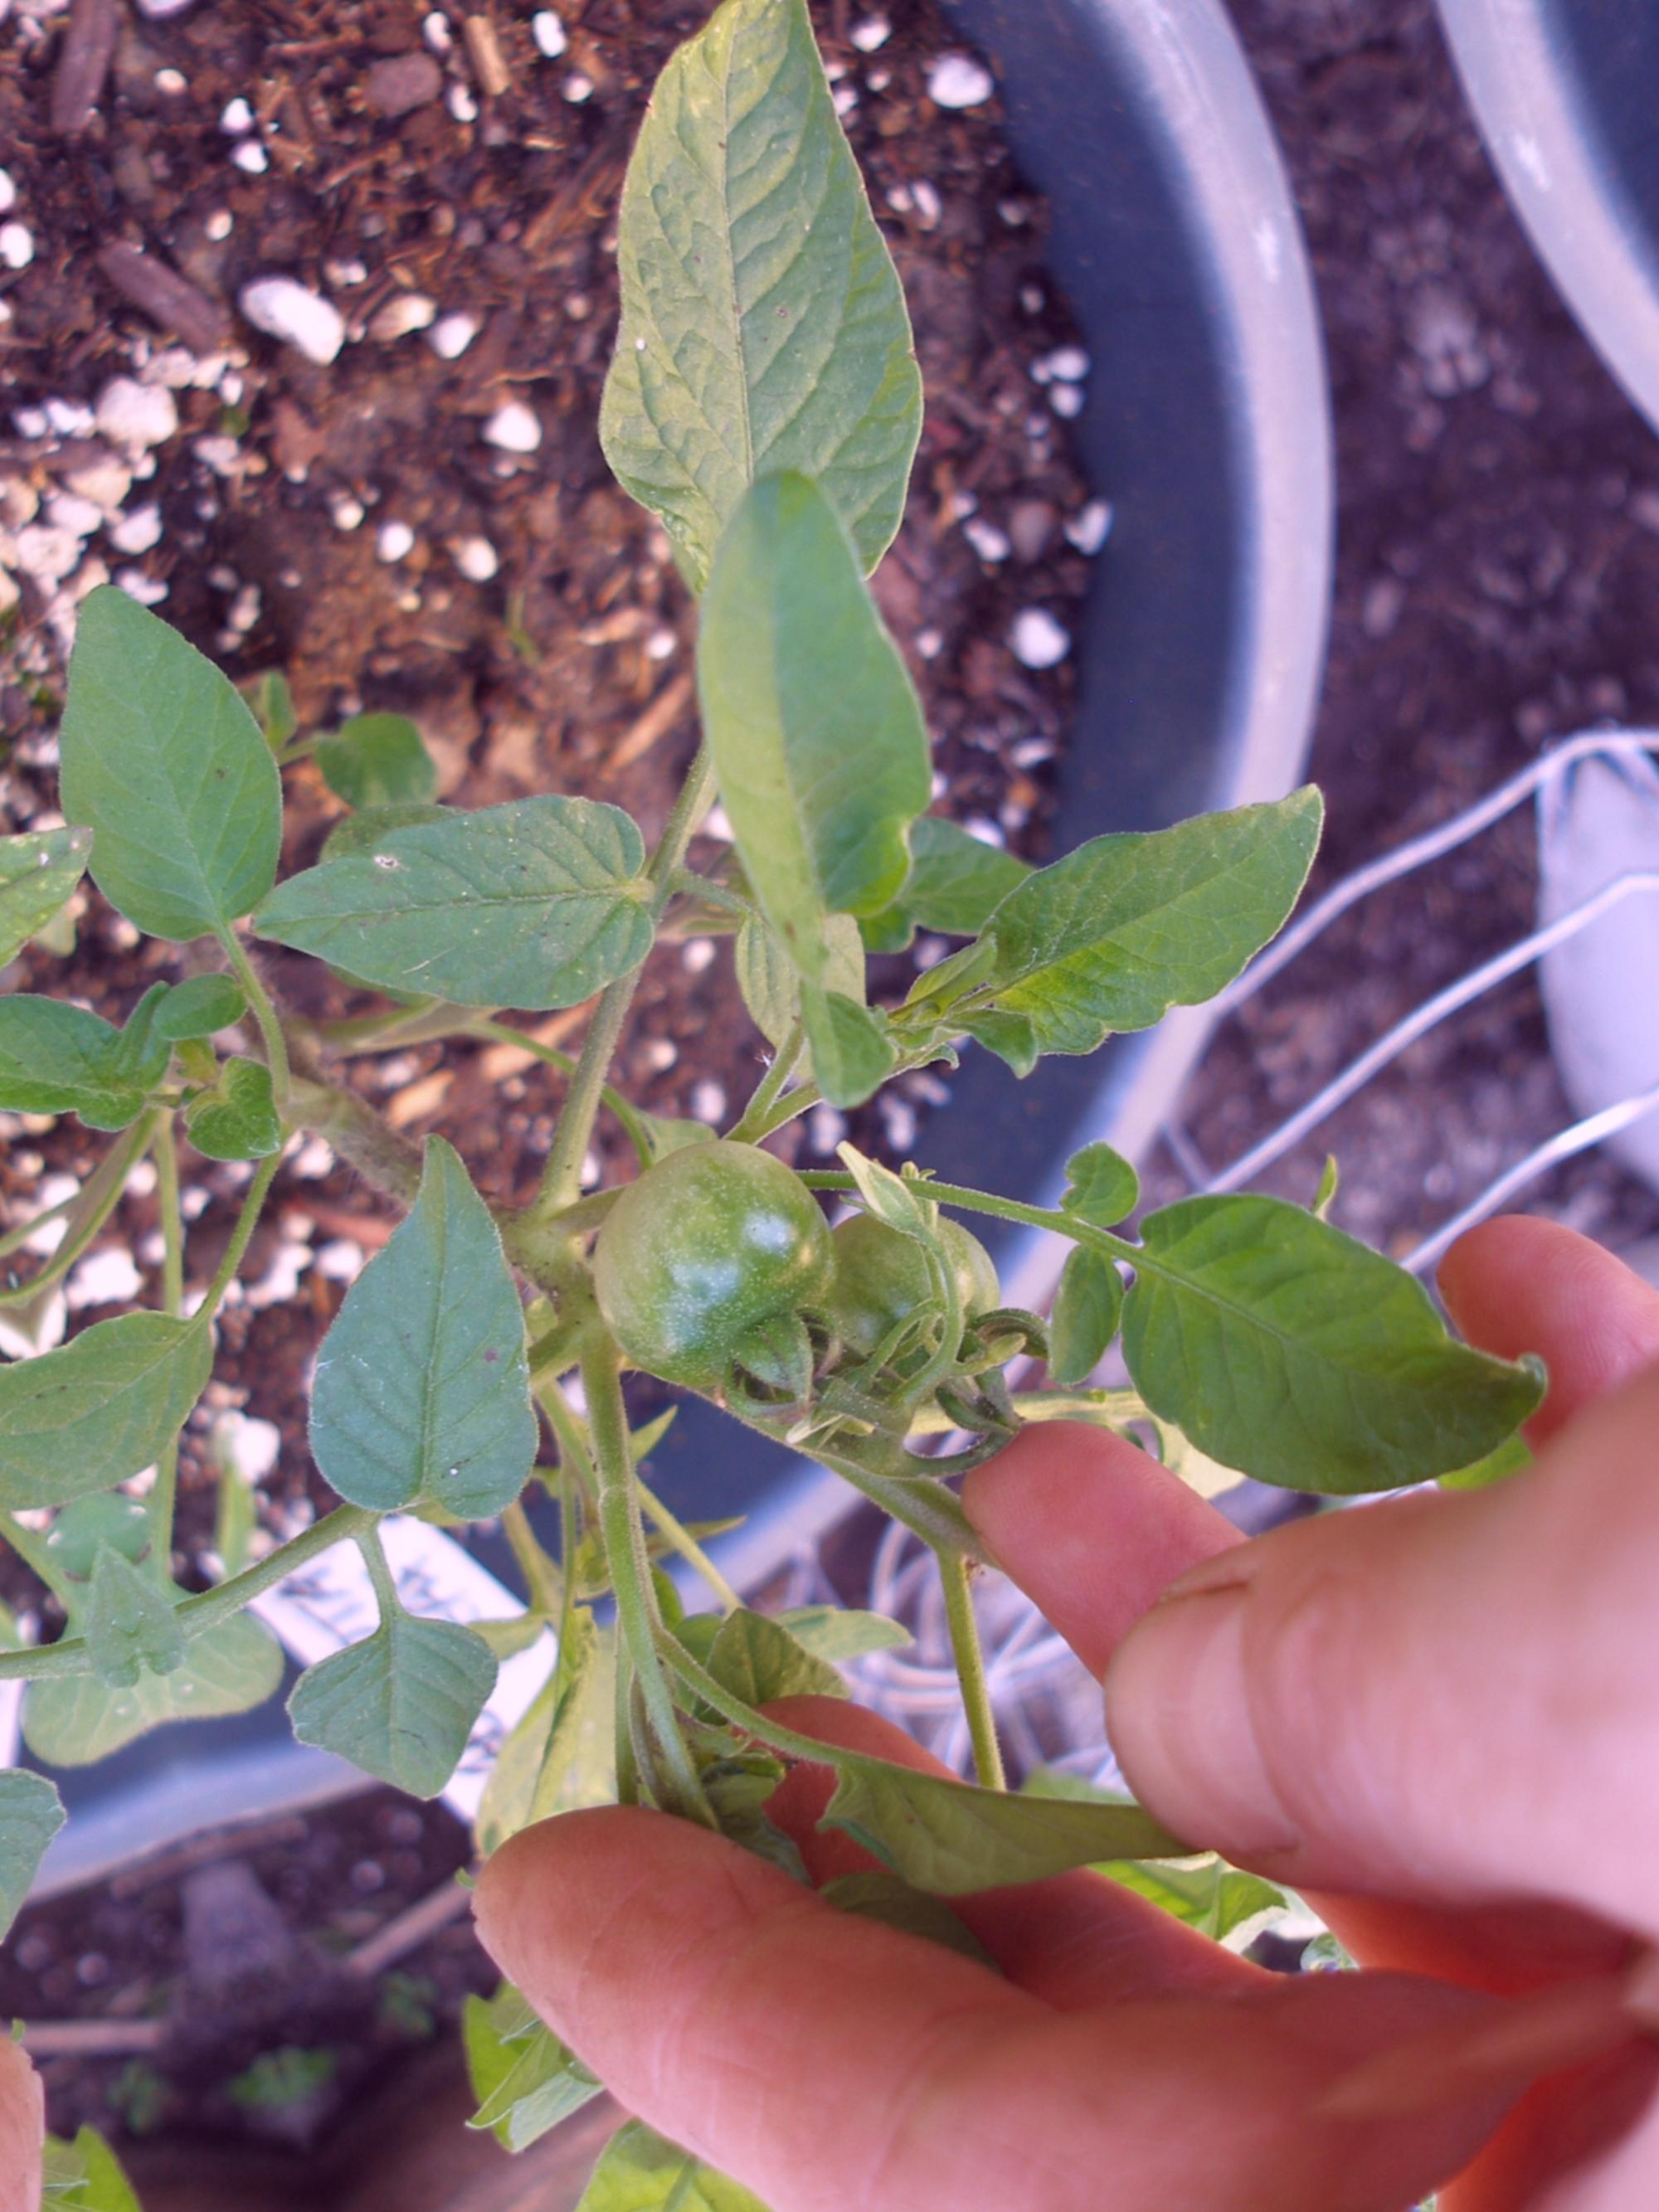Tomato leaf: (377, 0, 1066, 712), (1016, 1033, 1592, 1613), (208, 678, 736, 1121), (973, 684, 1463, 1135), (617, 412, 990, 956), (200, 1143, 644, 1582), (0, 503, 360, 1002), (0, 909, 252, 1209)
